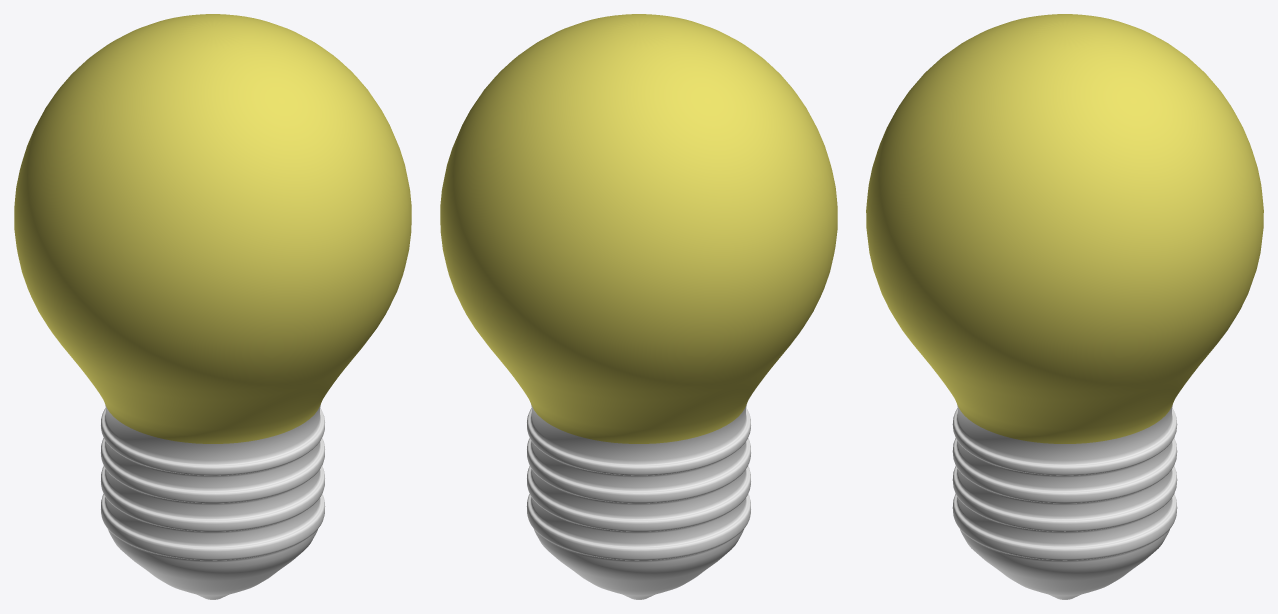
The model's file is Glühbirne.fbx.
3 renders of one model, left to right at view 1: azimuth 30°, elevation 25°; view 2: azimuth 150°, elevation 25°; view 3: azimuth 270°, elevation 25°, orthographic.
Parts seen in each view (by area): view 1: Sphere; view 2: Sphere; view 3: Sphere.
Part boxes in pixels (x1=…): Sphere: x1=14, y1=14, x2=411, y2=599; Sphere: x1=440, y1=14, x2=837, y2=599; Sphere: x1=866, y1=14, x2=1263, y2=599.
Bounding box in the file's own units: 5580 × 8759 × 5580.
